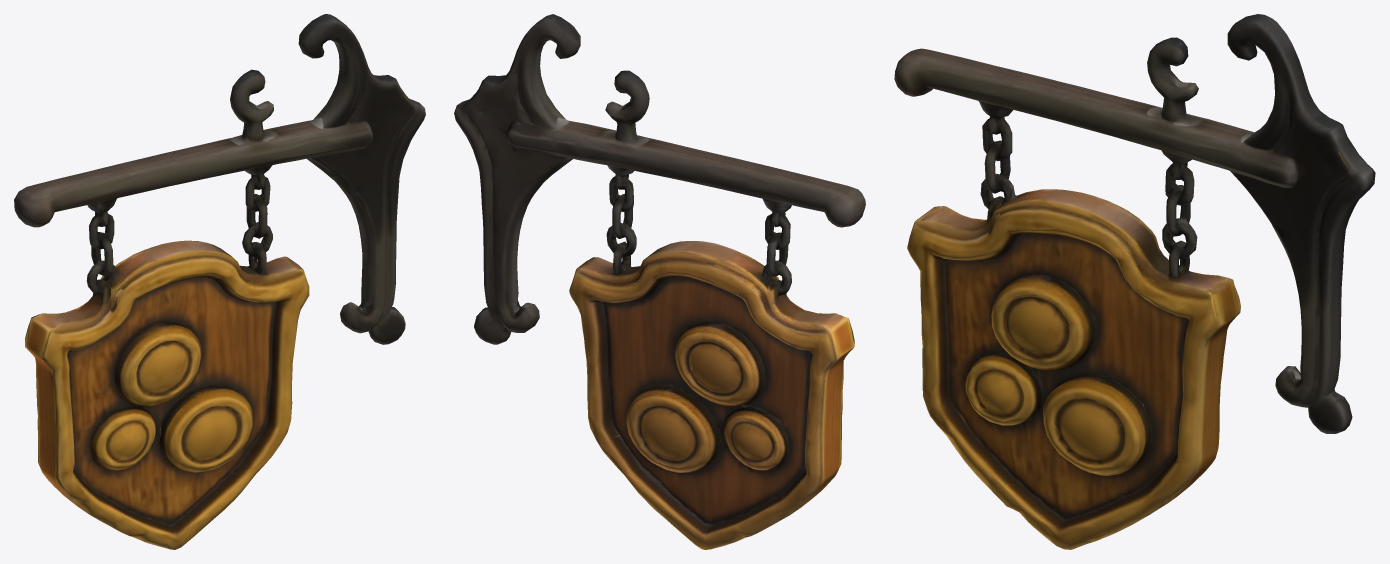
The picture shows the model from 3 angles, left to right: view 1: azimuth 30°, elevation 25°; view 2: azimuth 150°, elevation 25°; view 3: azimuth 330°, elevation 25°; orthographic projection. The views are drawn at different scales.
Visible parts, largest first — view 1: Mesh_0.007; view 2: Mesh_0.007; view 3: Mesh_0.007.
Part boxes in pixels (x1,y1,x2,y2): Mesh_0.007: (14,14,425,549); Mesh_0.007: (454,14,865,549); Mesh_0.007: (894,14,1375,549).
Size of the model in its own units: 1.73 by 2 by 0.2782.
Materials: 1 (1 with a texture image).
